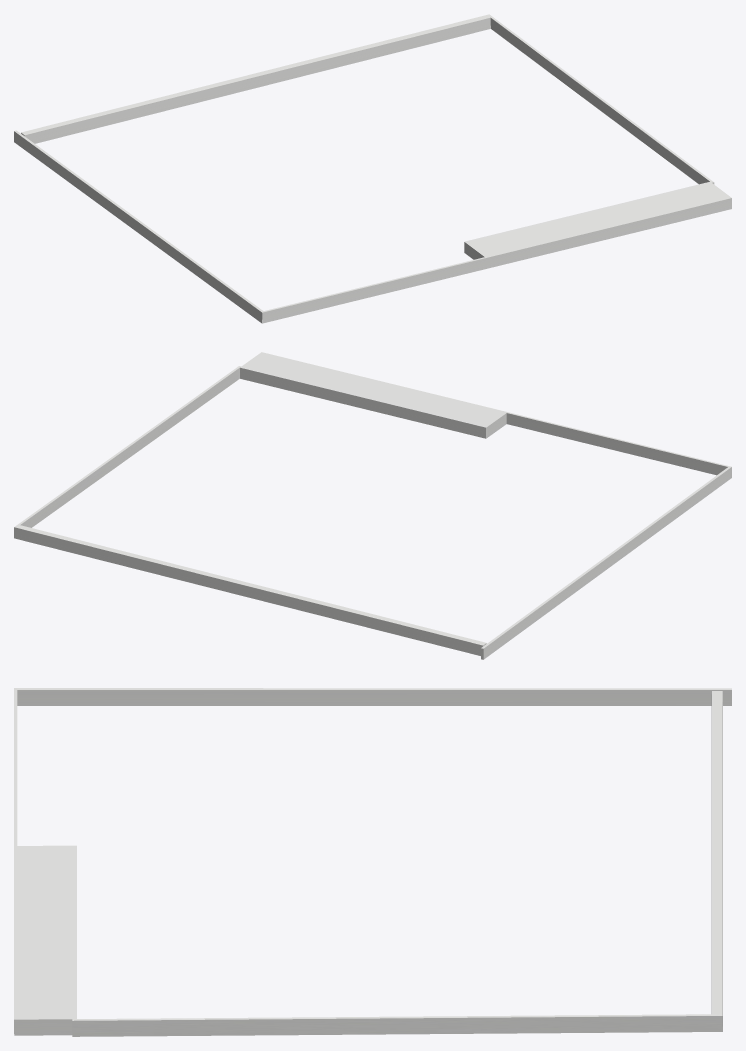
File: Detalles_techo.obj
The picture shows the model from 3 angles, top to bottom: view 1: azimuth 30°, elevation 25°; view 2: azimuth 150°, elevation 25°; view 3: azimuth 270°, elevation 25°; orthographic projection. The views are drawn at different scales.
Visible parts, largest first — view 1: DetalleTechoCuarto; view 2: DetalleTechoCuarto; view 3: DetalleTechoCuarto.
Part boxes in pixels (box(x1,y1,x2,y2)): DetalleTechoCuarto: box(14, 14, 731, 323); DetalleTechoCuarto: box(14, 352, 731, 659); DetalleTechoCuarto: box(14, 688, 731, 1036).
Bounding box in the file's own units: 19.06 × 0.582 × 17.35.
